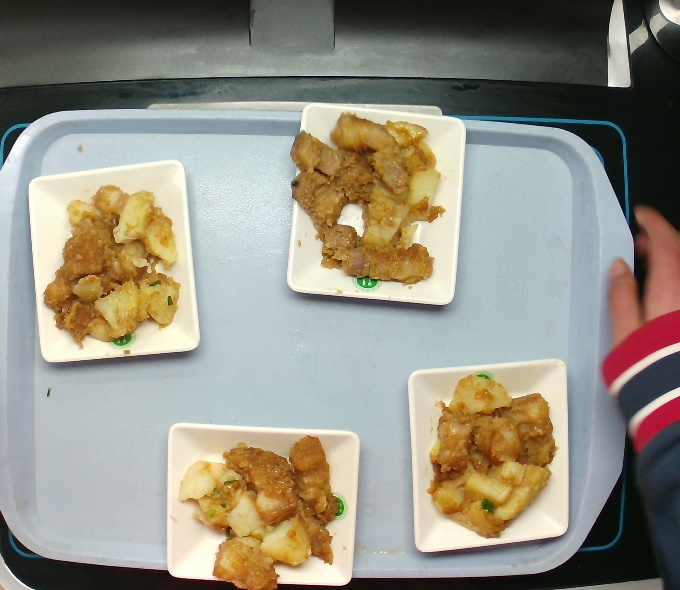wcq-FenZhenRou: (297, 100, 442, 302), (173, 425, 343, 589), (38, 179, 184, 353), (415, 373, 556, 538)
